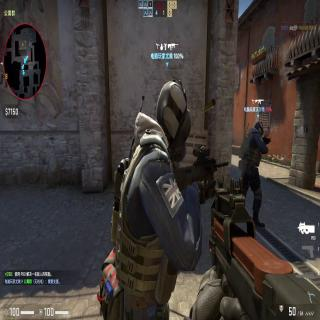CT-Body: (108, 75, 207, 263), (238, 118, 270, 187)
CT-Head: (156, 76, 191, 161), (254, 118, 264, 136)
